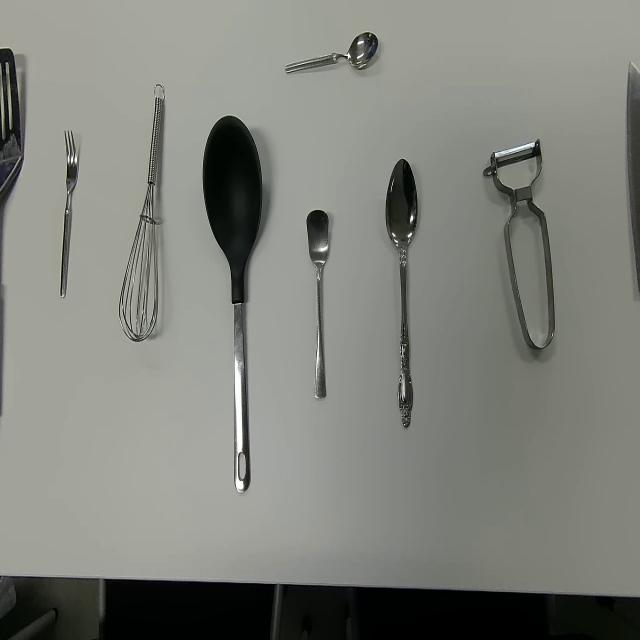Desert-Spoon: (384, 157, 418, 431)
Dinner-Fork: (60, 128, 78, 300)
Peeler: (482, 136, 556, 352)
Serving-Spoon: (202, 113, 263, 496), (0, 45, 23, 418)
Tea-Spoon: (306, 207, 330, 401), (284, 30, 379, 76)
Whisk: (118, 82, 166, 344)
